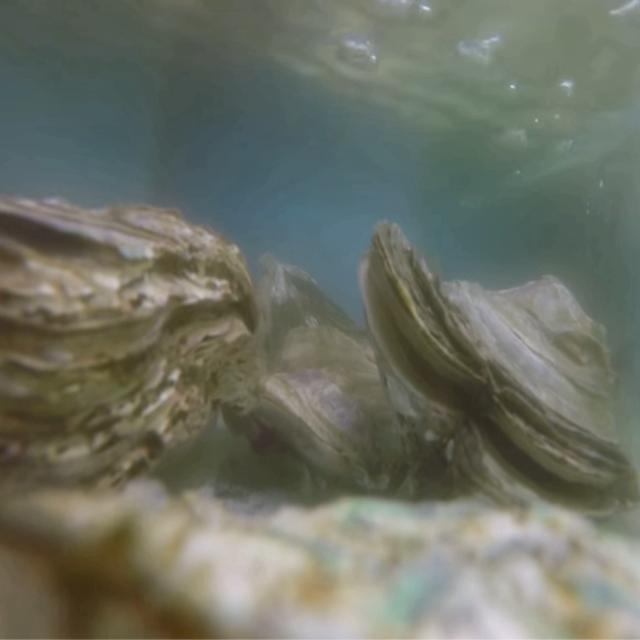Oyster-Closed: (0, 197, 257, 526), (260, 325, 420, 504)
Oyster-Indeterminate: (0, 479, 640, 640), (266, 262, 371, 372)
Oyster-Open: (357, 218, 640, 536)
